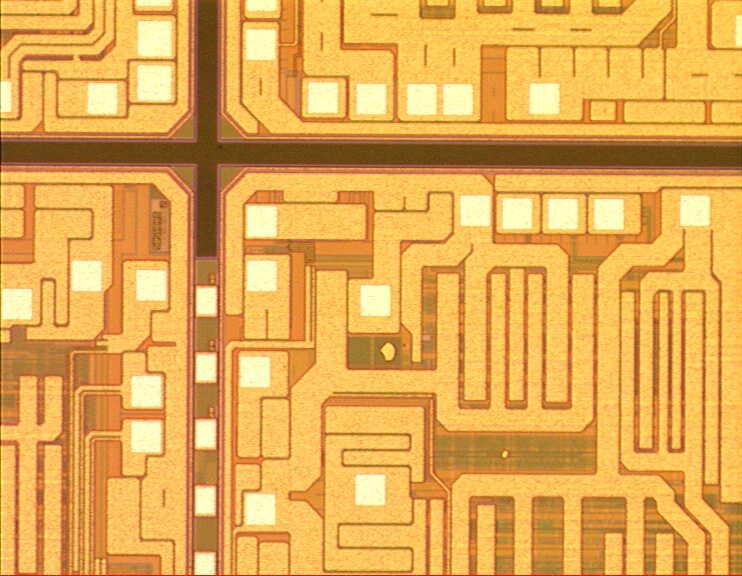BLOCK ETCH: (375, 339, 516, 465)
